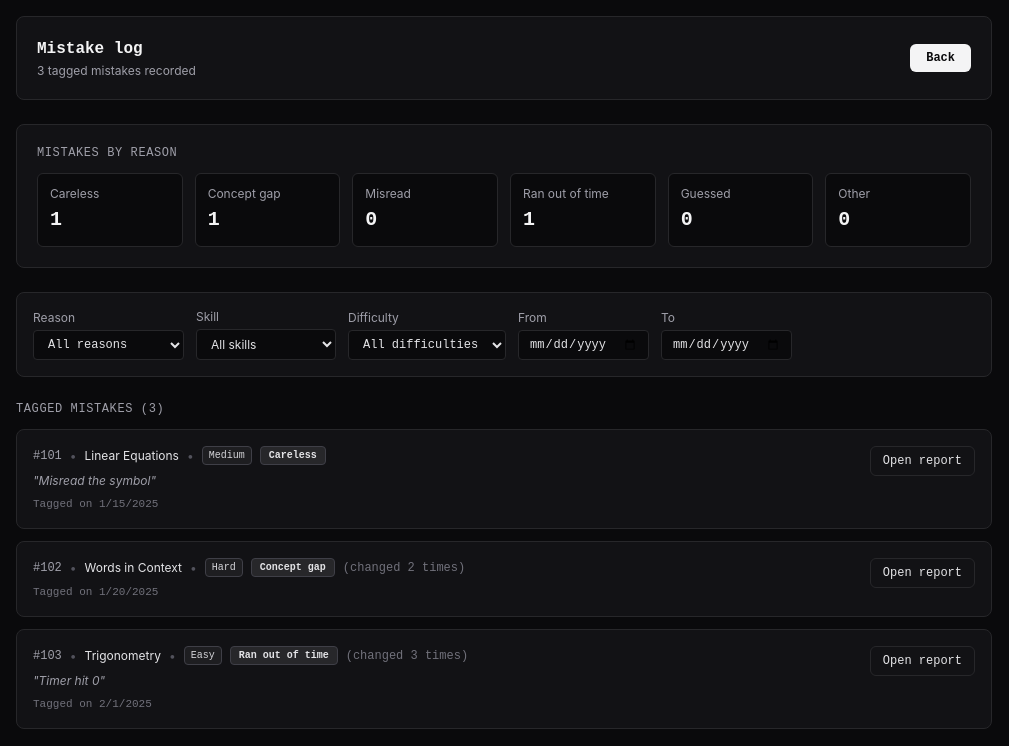
MistakeLogScreen › filters by reason
Select "Careless" in the dropdown named "Filter by reason": (108, 345) left=33, top=330, right=184, bottom=360
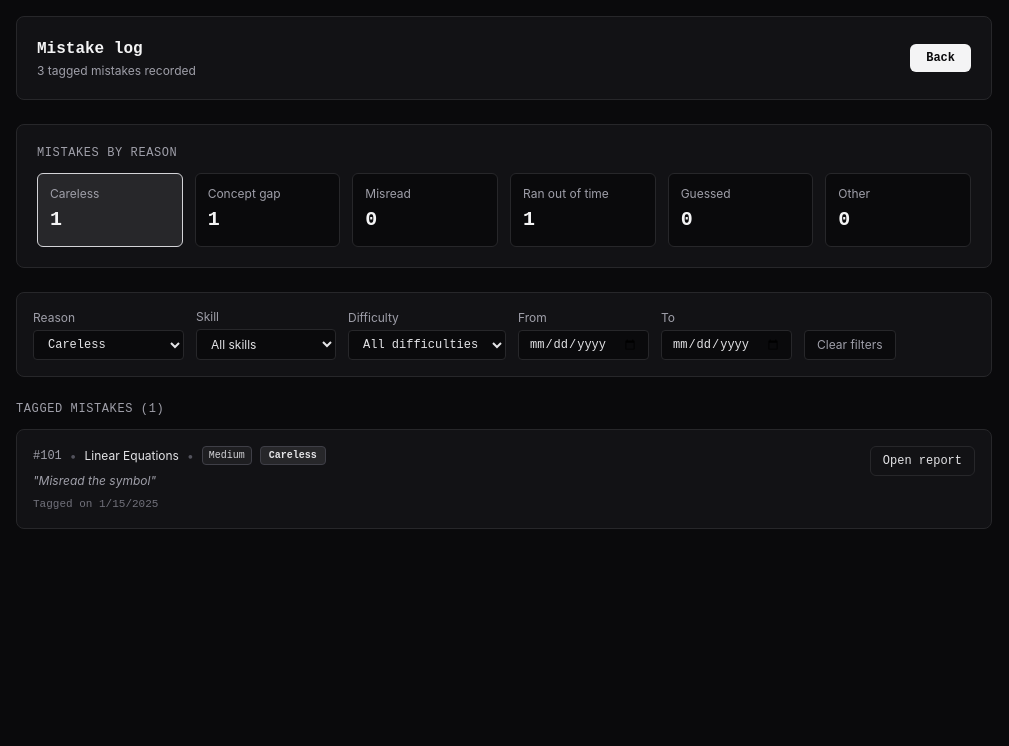
Expected: the text "#101" is shown, left=33, top=448, right=62, bottom=464
Result: the text "#102" is gone
Result: the text "#103" is gone
